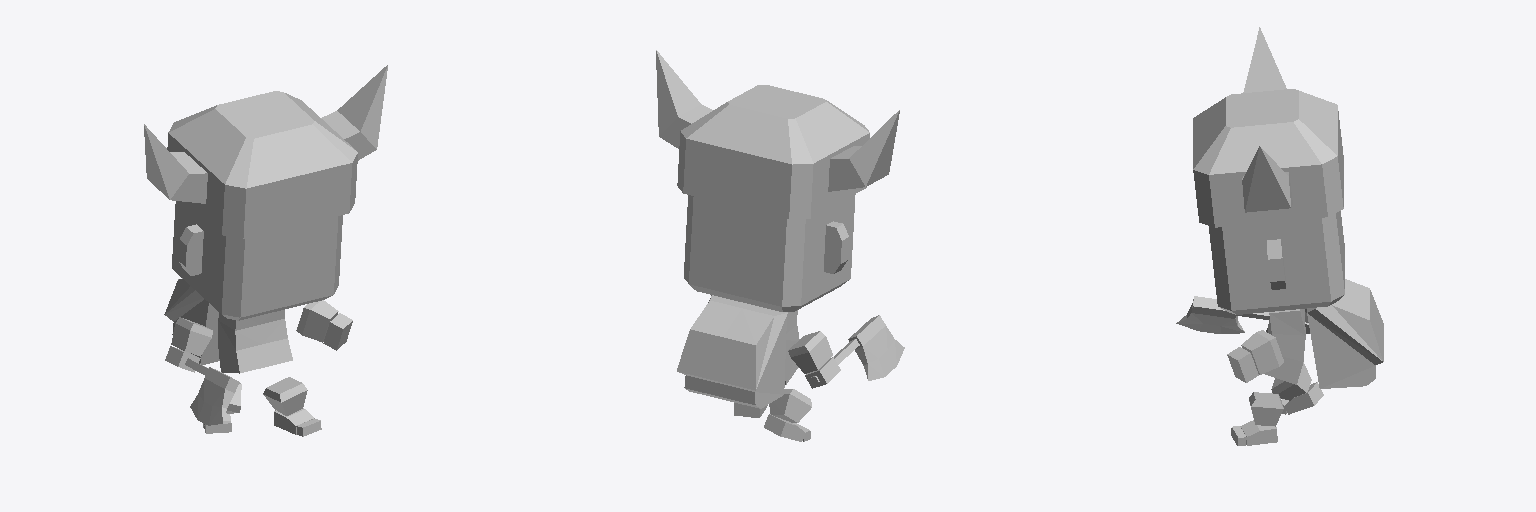
Rendered from mini_knight_000004.obj.
3 renders of one model, left to right at view 1: azimuth 30°, elevation 25°; view 2: azimuth 150°, elevation 25°; view 3: azimuth 270°, elevation 25°, orthographic.
Visible parts, largest first — view 1: cap_Object01_Material__3, Mesh_objheadusOBJexport_Material, back_Object03_Material__3, axe_Object02_Material__3; view 2: cap_Object01_Material__3, Mesh_objheadusOBJexport_Material, back_Object03_Material__3, axe_Object02_Material__3; view 3: cap_Object01_Material__3, Mesh_objheadusOBJexport_Material, back_Object03_Material__3, axe_Object02_Material__3.
Boxes of the visible parts, x1=… form: cap_Object01_Material__3: x1=144, y1=65, x2=387, y2=238; Mesh_objheadusOBJexport_Material: x1=165, y1=201, x2=352, y2=436; back_Object03_Material__3: x1=164, y1=278, x2=219, y2=364; axe_Object02_Material__3: x1=185, y1=358, x2=239, y2=425; cap_Object01_Material__3: x1=656, y1=50, x2=899, y2=218; Mesh_objheadusOBJexport_Material: x1=684, y1=194, x2=855, y2=441; back_Object03_Material__3: x1=677, y1=295, x2=787, y2=408; axe_Object02_Material__3: x1=810, y1=315, x2=904, y2=383; cap_Object01_Material__3: x1=1193, y1=27, x2=1343, y2=227; Mesh_objheadusOBJexport_Material: x1=1209, y1=211, x2=1344, y2=445; back_Object03_Material__3: x1=1307, y1=279, x2=1383, y2=388; axe_Object02_Material__3: x1=1176, y1=296, x2=1269, y2=333.
Bounding box in the file's own units: 1.94 × 2.57 × 1.42.